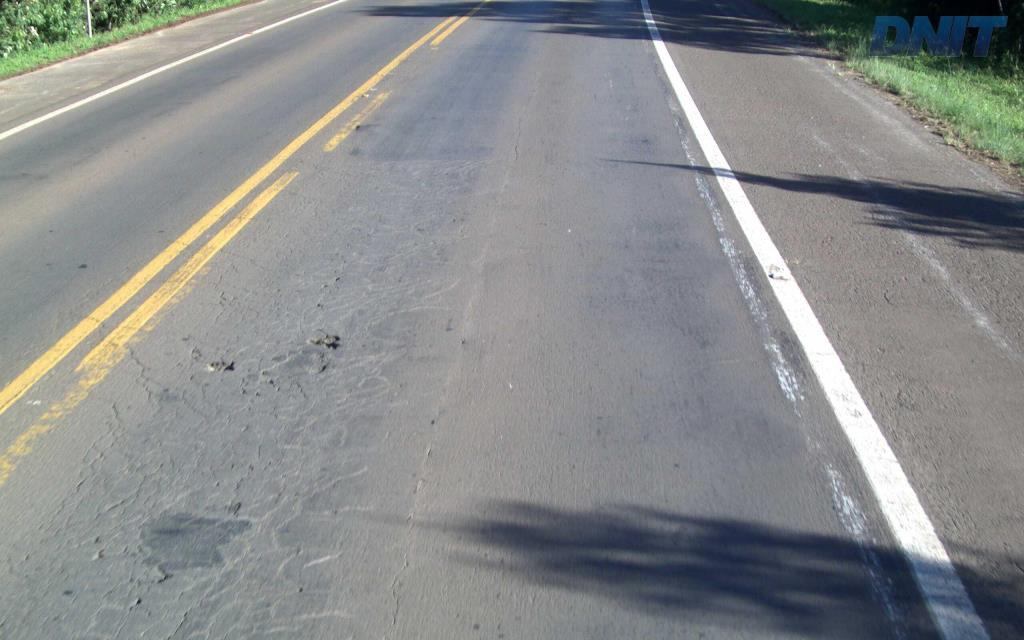crack: (270, 328, 347, 374), (278, 373, 316, 445), (367, 308, 416, 362), (319, 413, 380, 454), (293, 463, 357, 499), (149, 515, 216, 549), (155, 387, 211, 425), (220, 433, 258, 470)
pothole: (302, 327, 342, 351), (305, 350, 333, 374), (205, 357, 241, 373)
